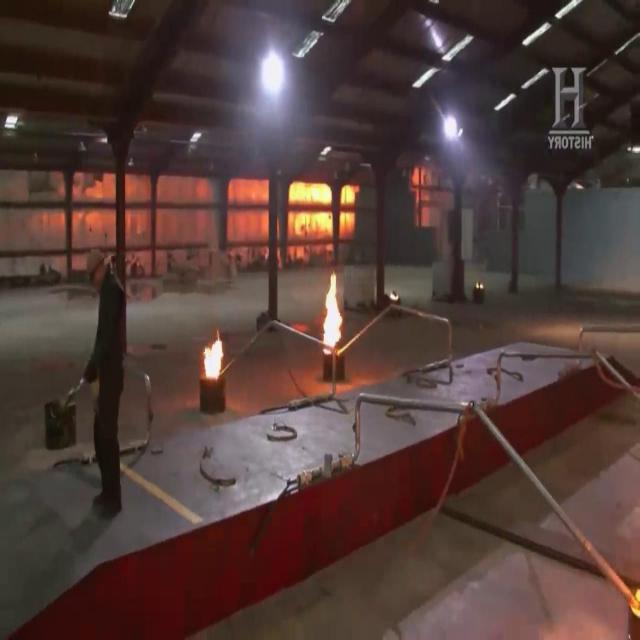Fire: (289, 188, 357, 245), (314, 276, 350, 360), (201, 336, 230, 380)
